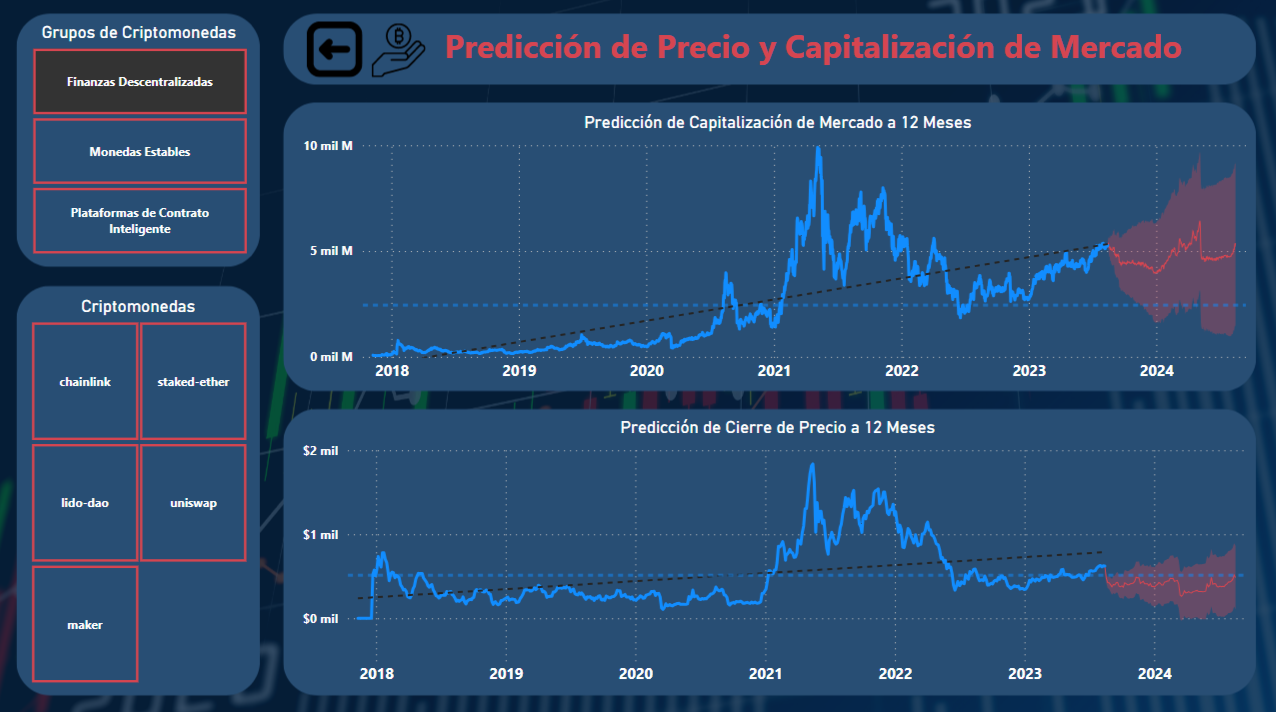

What the dashboard file says about the page in this screenshot:
{"tool":"powerbi","page":{"name":"Predicción 12 Meses","canvas":[1280,720],"ordinal":4},"visuals":[{"type":"lineChart","title":"Predicción de Capitalización de Mercado a 12 Meses","fields":{"Category":["combinado_completo.date"],"Y":["Avg(combinado_completo.market_caps)"]},"box":[300.6,115.6,959.4,278.8],"z":0},{"type":"lineChart","title":"Predicción de Cierre de Precio a 12 Meses","fields":{"Category":["combinado_completo.date"],"Y":["Avg(combinado_completo.close)"]},"box":[300.9,421.8,959.1,277.3],"z":1000},{"type":"textbox","box":[442.7,22.7,797.3,80.9],"z":2000},{"type":"slicer","title":"Grupos de Criptomonedas","fields":{"Values":["combinado_completo.Grupos de Criptomonedas"]},"box":[10,26.4,263.6,238.2],"z":3000},{"type":"slicer","title":"Criptomonedas","fields":{"Values":["combinado_completo.id"]},"box":[8.1,299.4,265,393.8],"z":4000},{"type":"actionButton","box":[308.3,22.9,58.6,48.4],"z":5000}]}

Visuals, with their boxes in screenshot pixels (x1, y1, x2, y2), scaled from the page's 1280x720 canvas onto the 1276x712 screenshot:
"Predicción de Capitalización de Mercado a 12 Meses" lineChart: (x1=300, y1=114, x2=1256, y2=390)
"Predicción de Cierre de Precio a 12 Meses" lineChart: (x1=300, y1=417, x2=1256, y2=691)
textbox: (x1=441, y1=22, x2=1236, y2=102)
"Grupos de Criptomonedas" slicer: (x1=10, y1=26, x2=273, y2=262)
"Criptomonedas" slicer: (x1=8, y1=296, x2=272, y2=685)
actionButton: (x1=307, y1=23, x2=366, y2=71)
